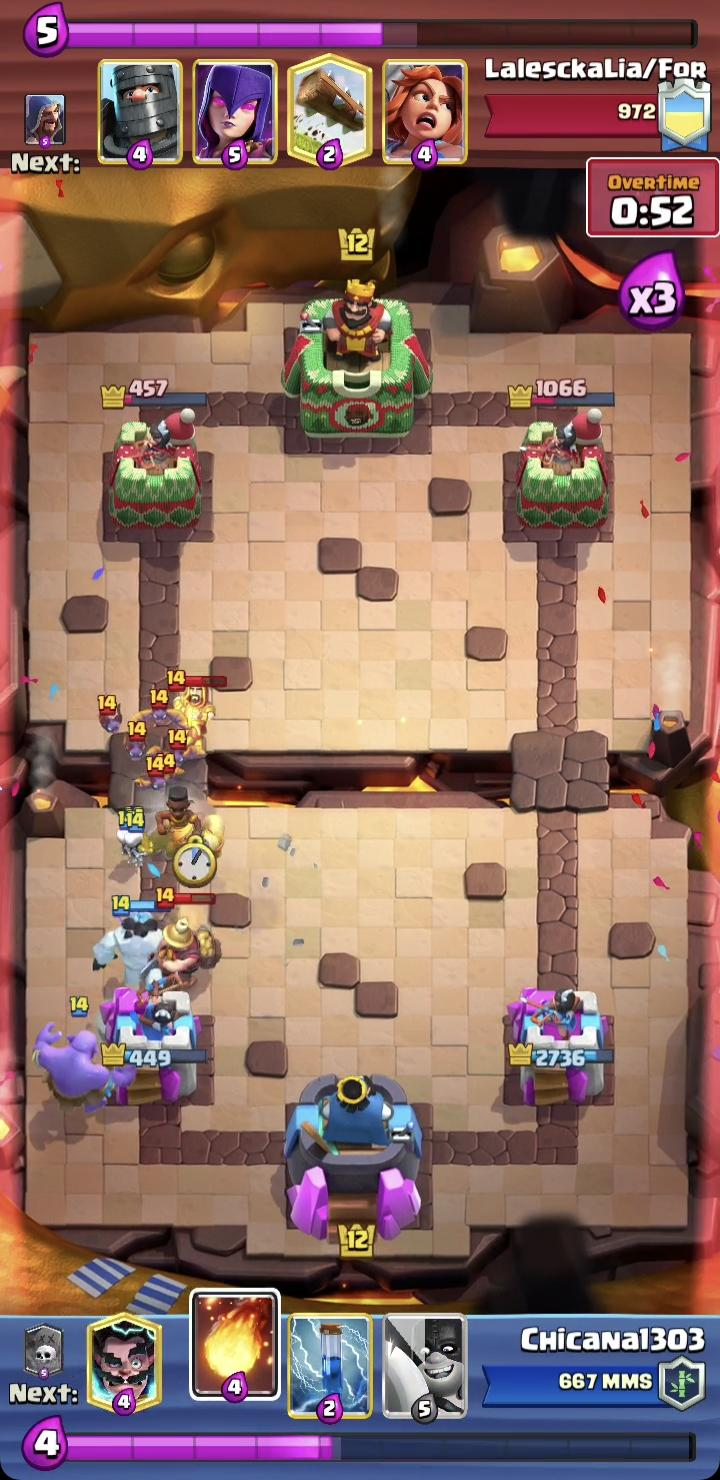ally_bowler: (33, 995, 135, 1104)
ally_ice_golem: (93, 894, 173, 982)
ally_skeleton: (124, 809, 155, 865), (116, 808, 139, 864)
enemy_bat: (148, 728, 206, 763), (132, 688, 187, 724), (133, 756, 185, 791), (95, 693, 122, 733), (123, 721, 147, 760)
enemy_miner: (141, 886, 223, 985)
enemy_ramrider: (153, 752, 206, 861)
enemy_wizard: (165, 669, 227, 743)
